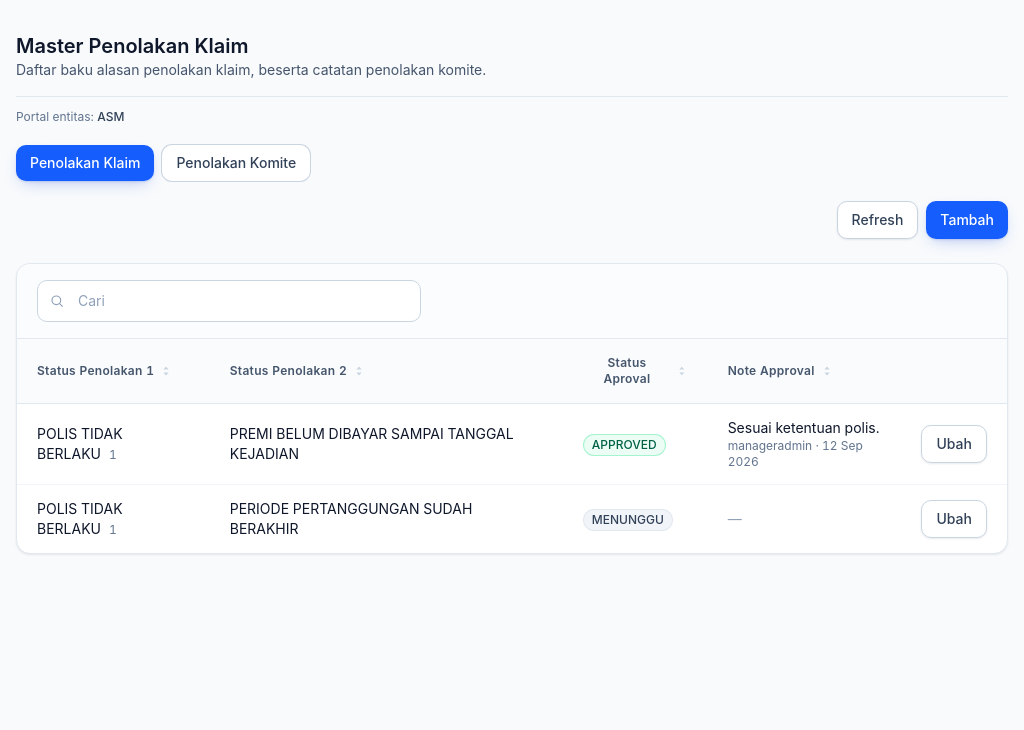
Test: menambah penolakan klaim › menyorot pelanggaran yang dilaporkan server pada isiannya
Expected: the table is shown, [17,339,1007,553]
Click the button "Tambah" at (967, 220), box [926,201,1008,239]
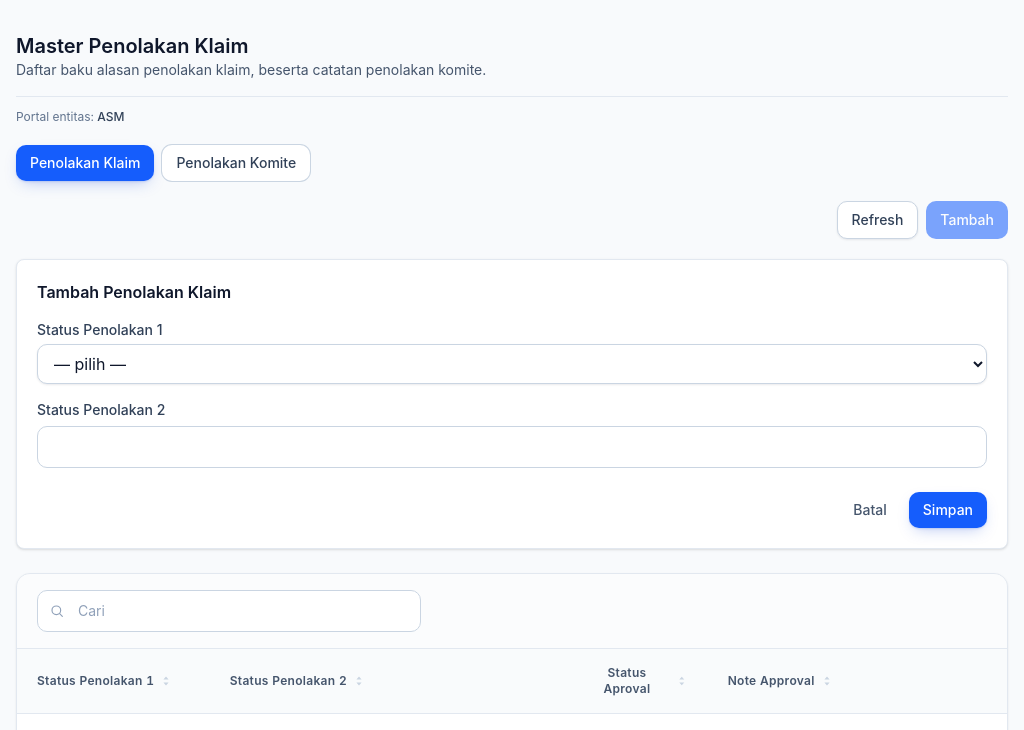
Select "1 — POLIS TIDAK BERLAKU" in the dropdown labelled "Status Penolakan 1" at (512, 364), box [37,344,987,384]
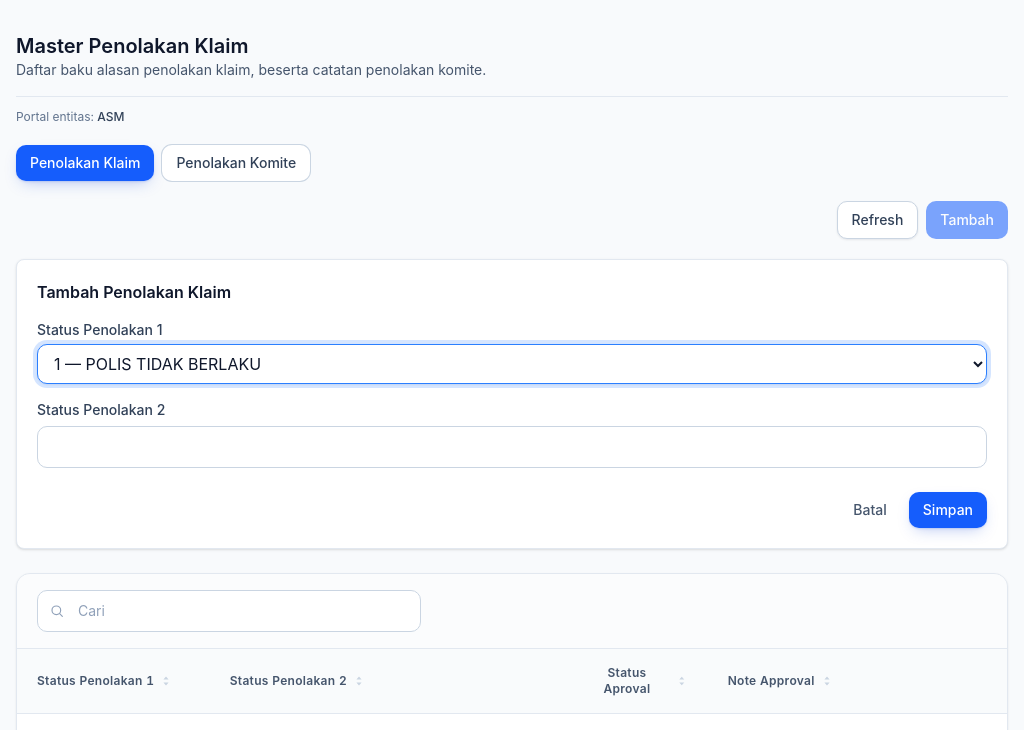
Type "X" into the field labelled "Status Penolakan 2" at (512, 447), box [37,426,987,468]
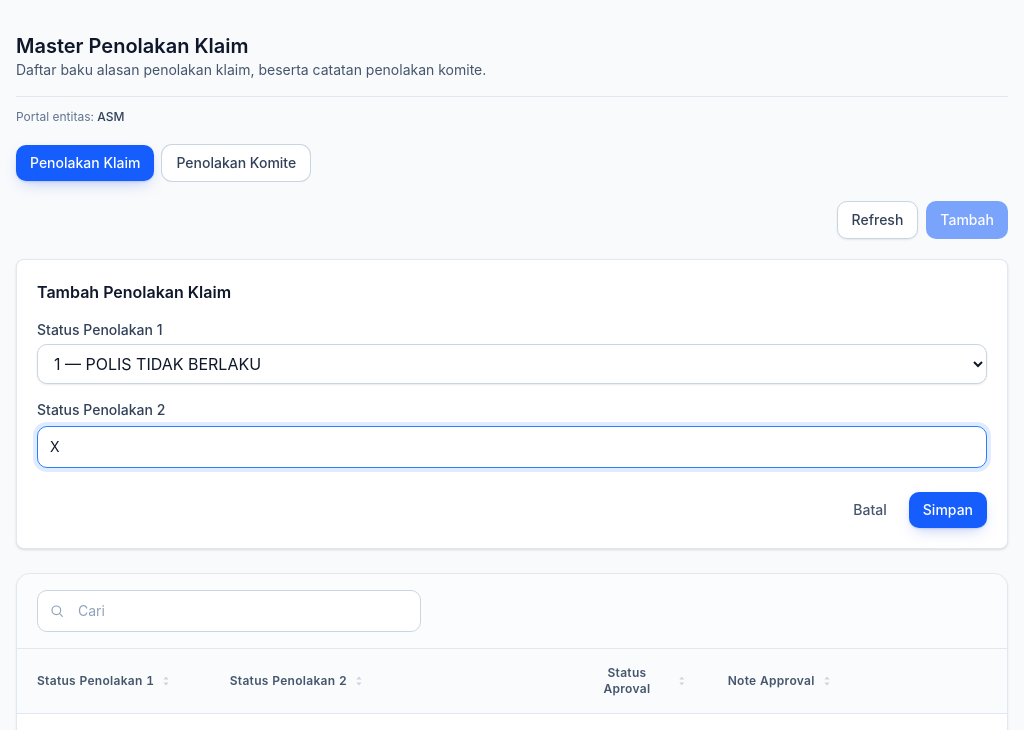
Click the button "Simpan" at (948, 510), box [909,492,987,528]
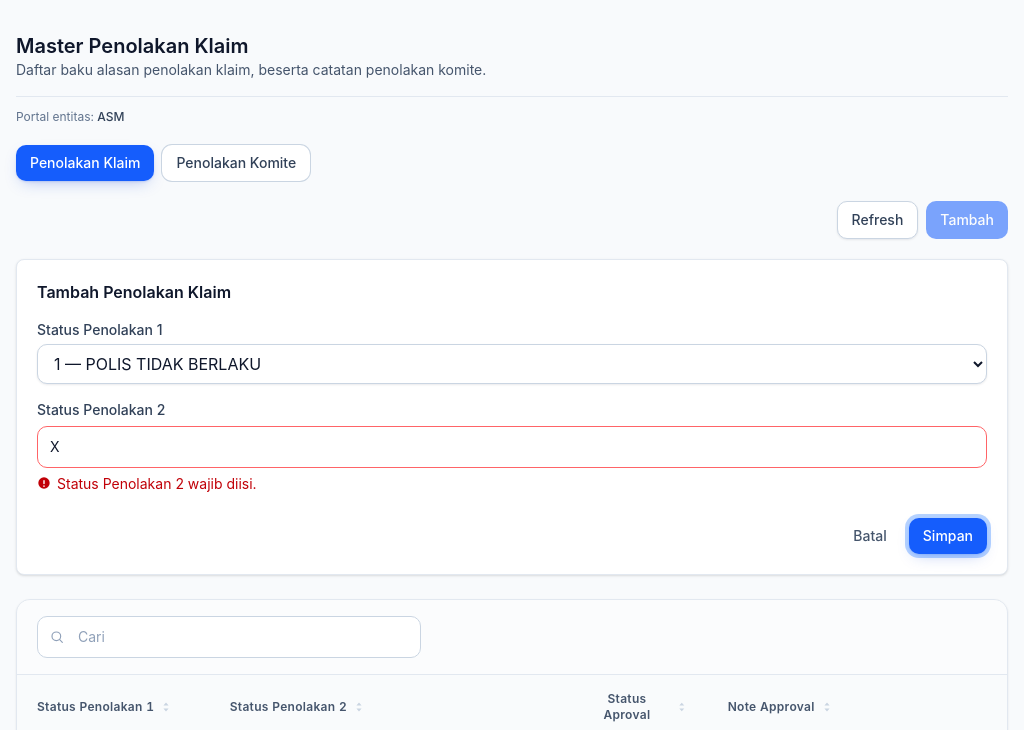
Expected: the text "Status Penolakan 2 wajib diisi." is shown, [57,474,257,494]
